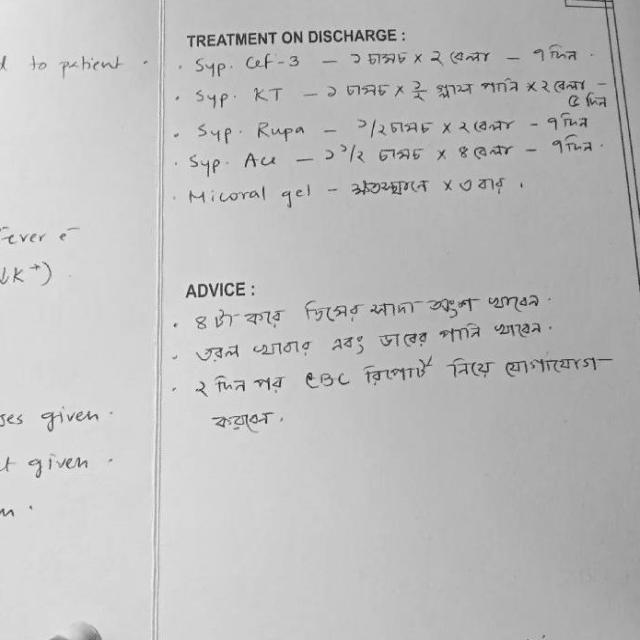medicine: (182, 183, 274, 209), (238, 48, 304, 76), (251, 117, 311, 146), (237, 147, 287, 176), (246, 79, 287, 110)
